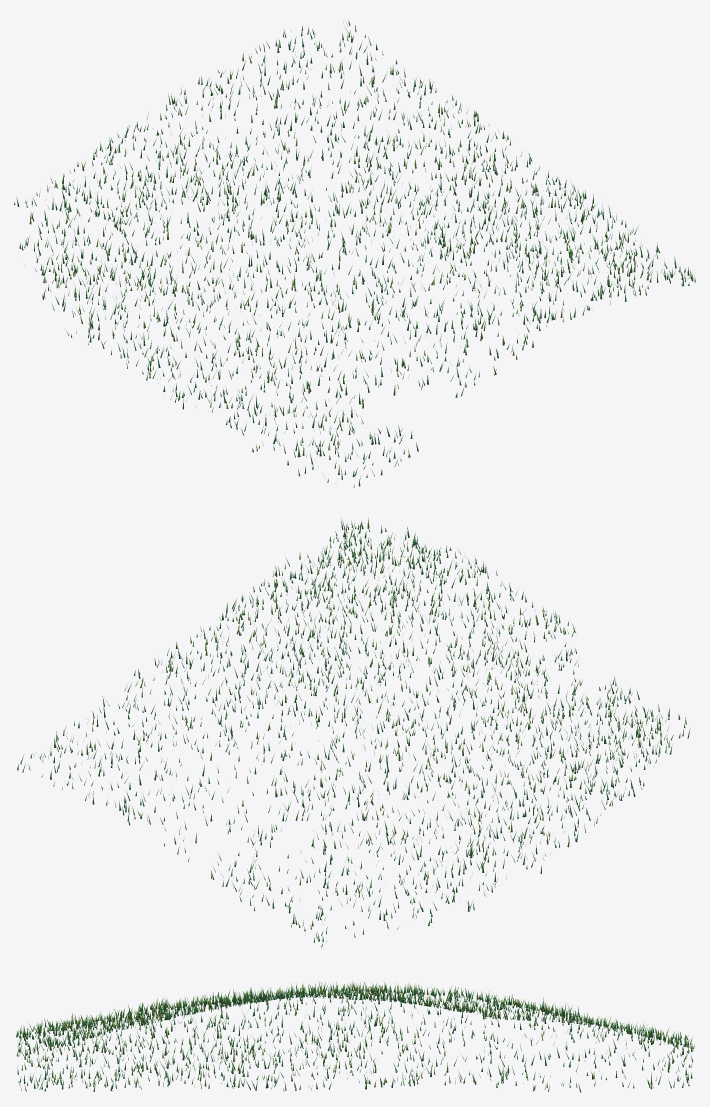
The picture shows the model from 3 angles, top to bottom: view 1: azimuth 30°, elevation 25°; view 2: azimuth 150°, elevation 25°; view 3: azimuth 270°, elevation 25°; orthographic projection. The views are drawn at different scales.
Visible parts, largest first — view 1: gc_14; view 2: gc_14; view 3: gc_14.
Part boxes in pixels (x1,y1,x2,y2): gc_14: [14, 20, 695, 487]; gc_14: [17, 518, 690, 947]; gc_14: [16, 981, 694, 1092].
Size of the model in its own units: 12.18 by 3.77 by 18.11.
Materials: 1 (1 with a texture image).
